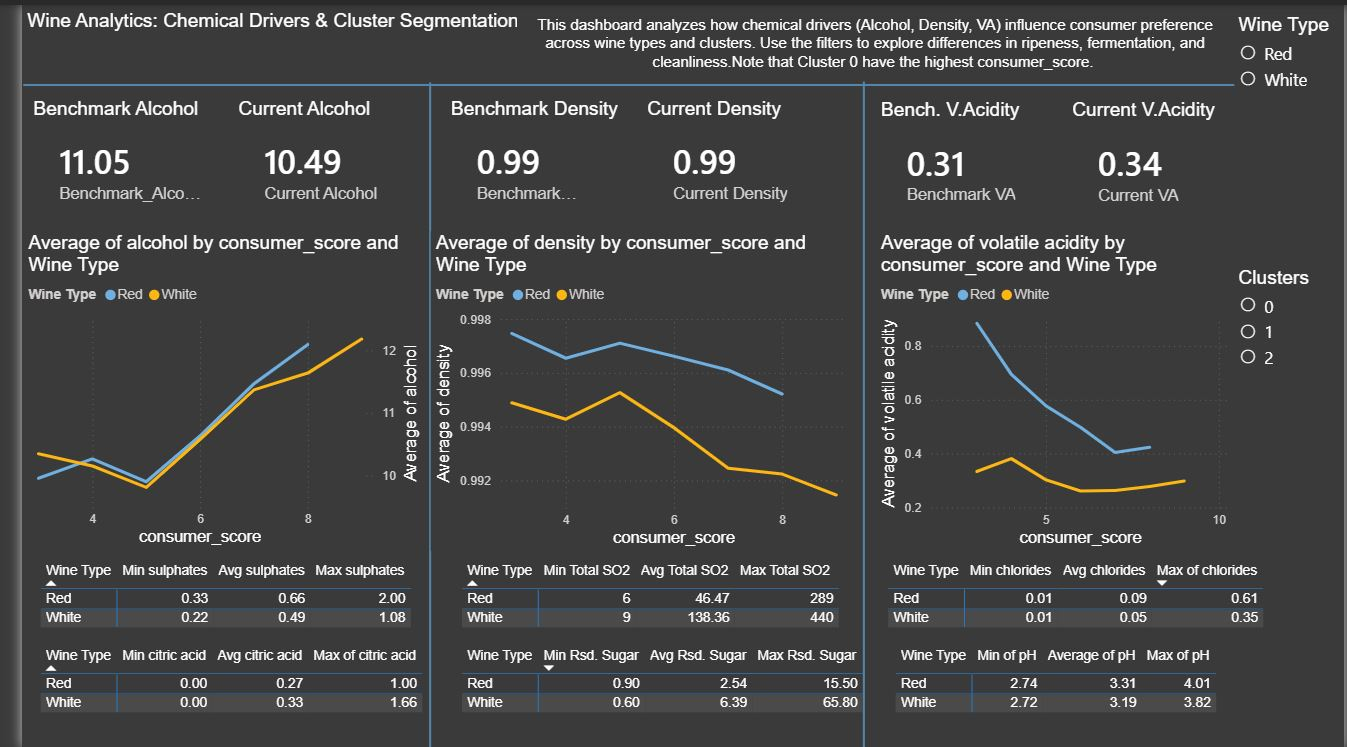

This screenshot's page, from the dashboard's own definition file:
{"tool":"powerbi","page":{"name":"Page 1","canvas":[1280,720],"ordinal":0},"visuals":[{"type":"listSlicer","fields":{"Values":["wine_combined.Clusters"]},"box":[1173.3,253.5,105.8,234.9],"z":0},{"type":"listSlicer","fields":{"Values":["wine_combined.Wine Type"]},"box":[1173,8.5,106.5,232.4],"z":1000},{"type":"textbox","box":[0,0,504.8,38.7],"z":2000},{"type":"pivotTable","fields":{"Values":["Min(wine_combined.sulphates)","Avg(wine_combined.sulphates)","Max(wine_combined.sulphates)"],"Rows":["wine_combined.Wine Type"]},"box":[13.3,533.5,377.7,82.3],"z":3000},{"type":"pivotTable","fields":{"Rows":["wine_combined.Wine Type"],"Values":["Min(wine_combined.citric acid)","Avg(wine_combined.citric acid)","Max(wine_combined.citric acid)"]},"box":[13.3,615.8,381.3,83.5],"z":4000},{"type":"pivotTable","fields":{"Rows":["wine_combined.Wine Type"],"Values":["Min(wine_combined.total sulfur dioxide)","Avg(wine_combined.total sulfur dioxide)","Max(wine_combined.total sulfur dioxide)"]},"box":[421.3,533.6,405.5,82.3],"z":5000},{"type":"pivotTable","fields":{"Rows":["wine_combined.Wine Type"],"Values":["Min(wine_combined.residual sugar)","Avg(wine_combined.residual sugar)","Max(wine_combined.residual sugar)"]},"box":[421.3,615.9,405.5,83.5],"z":6000},{"type":"pivotTable","fields":{"Rows":["wine_combined.Wine Type"],"Values":["Min(wine_combined.chlorides)","Avg(wine_combined.chlorides)","Max(wine_combined.chlorides)"]},"box":[834,533.6,405.5,82.3],"z":7000},{"type":"pivotTable","fields":{"Rows":["wine_combined.Wine Type"],"Values":["Min(wine_combined.pH)","Avg(wine_combined.pH)","Max(wine_combined.pH)"]},"box":[841.2,615.8,399.1,83.6],"z":8000},{"type":"shape","box":[380.1,75.1,30.3,645.2],"z":9000},{"type":"shape","box":[803.8,73.8,23,645.2],"z":10000},{"type":"shape","box":[1.2,65.4,1173,24.2],"z":11000},{"type":"textbox","box":[479.4,6.6,693.8,68.2],"z":12000},{"type":"lineChart","fields":{"Category":["wine_combined.consumer_score"],"Y2":["Avg(wine_combined.alcohol)"],"Series":["wine_combined.Wine Type"]},"box":[1.2,218.6,389.5,309.3],"z":13000},{"type":"cardVisual","title":"Benchmark Alcohol","fields":{"Data":["wine_combined.BenchmarksCluster0"]},"box":[6.1,89.6,196.1,119.8],"z":14000},{"type":"cardVisual","title":"Current Alcohol","fields":{"Data":["wine_combined.CurrentClusterAlcohol"]},"box":[204.6,89.6,186.4,119.8],"z":15000},{"type":"lineChart","fields":{"Y":["Avg(wine_combined.density)"],"Category":["wine_combined.consumer_score"],"Series":["wine_combined.Wine Type"]},"box":[395.8,219.1,407.9,309.9],"z":16000},{"type":"lineChart","fields":{"Y":["Avg(wine_combined.volatile acidity)"],"Category":["wine_combined.consumer_score"],"Series":["wine_combined.Wine Type"]},"box":[826.8,219.1,347.4,309.9],"z":17000},{"type":"cardVisual","title":"Benchmark Density","fields":{"Data":["wine_combined.Benchmark Density"]},"box":[410.4,89.6,190,119.8],"z":18000},{"type":"cardVisual","title":"Current Density","fields":{"Data":["wine_combined.Current Density"]},"box":[600.4,89.6,203.4,119.8],"z":19000},{"type":"cardVisual","title":"Bench. V.Acidity","fields":{"Data":["wine_combined.Benchmark VA"]},"box":[826.8,90.8,174.3,119.8],"z":20000},{"type":"cardVisual","title":"Current V.Acidity","fields":{"Data":["wine_combined.Current VA"]},"box":[1012,90.8,162.2,121],"z":20001}]}

Visuals, with their boxes in screenshot pixels (x1, y1, x2, y2), scaled from the page's 1280x720 canvas onto the 1347x747 screenshot:
listSlicer - wine_combined.Clusters: 1235,263,1346,507
listSlicer - wine_combined.Wine Type: 1234,9,1346,250
textbox: 0,0,531,40
pivotTable - Min(wine_combined.sulphates) x Avg(wine_combined.sulphates): 14,554,411,639
pivotTable - wine_combined.Wine Type x Min(wine_combined.citric acid): 14,639,415,726
pivotTable - wine_combined.Wine Type x Min(wine_combined.total sulfur dioxide): 443,554,870,639
pivotTable - wine_combined.Wine Type x Min(wine_combined.residual sugar): 443,639,870,726
pivotTable - wine_combined.Wine Type x Min(wine_combined.chlorides): 878,554,1304,639
pivotTable - wine_combined.Wine Type x Min(wine_combined.pH): 885,639,1305,726
shape: 400,78,432,746
shape: 846,77,870,746
shape: 1,68,1236,93
textbox: 504,7,1235,78
lineChart - wine_combined.consumer_score x Avg(wine_combined.alcohol): 1,227,411,548
"Benchmark Alcohol" cardVisual: 6,93,213,217
"Current Alcohol" cardVisual: 215,93,411,217
lineChart - Avg(wine_combined.density) x wine_combined.consumer_score: 417,227,846,549
lineChart - Avg(wine_combined.volatile acidity) x wine_combined.consumer_score: 870,227,1236,549
"Benchmark Density" cardVisual: 432,93,632,217
"Current Density" cardVisual: 632,93,846,217
"Bench. V.Acidity" cardVisual: 870,94,1054,218
"Current V.Acidity" cardVisual: 1065,94,1236,220
